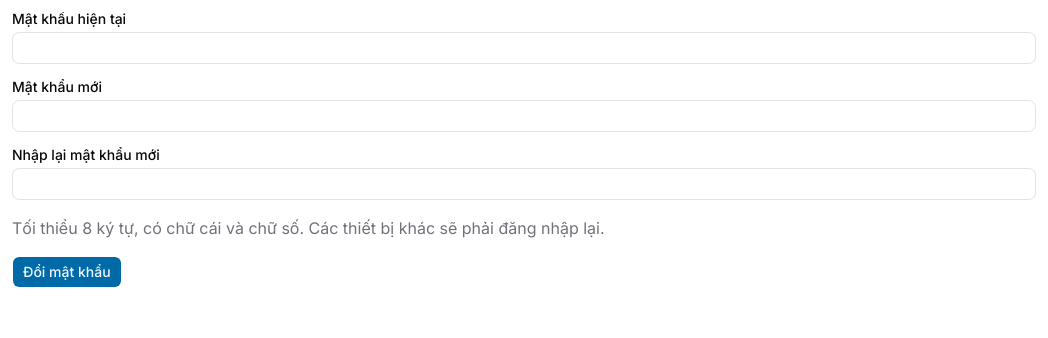
PasswordForm › mật khẩu mới quá ngắn → báo lỗi
The width and height of the screenshot is (1048, 338).
Type "Matkhau123" into the password field labelled "Mật khẩu hiện tại".
click(524, 48); type("Matkhau123")  # box [12,32,1036,64]
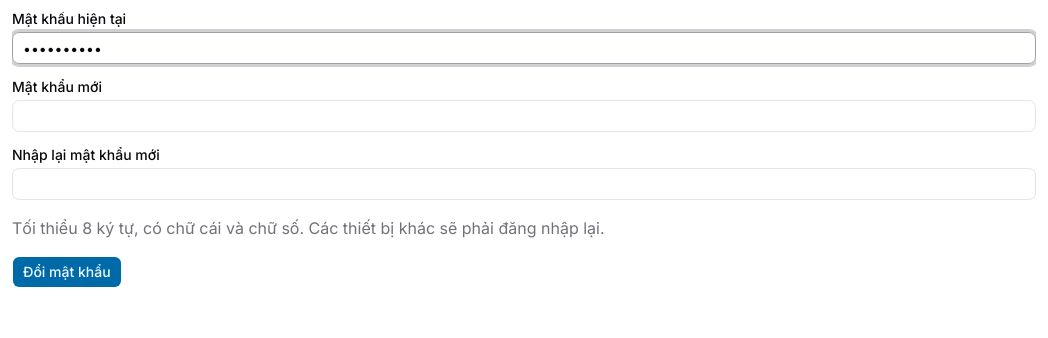
Type "abc1" into the password field labelled "Mật khẩu mới".
click(524, 116); type("abc1")  # box [12,100,1036,132]
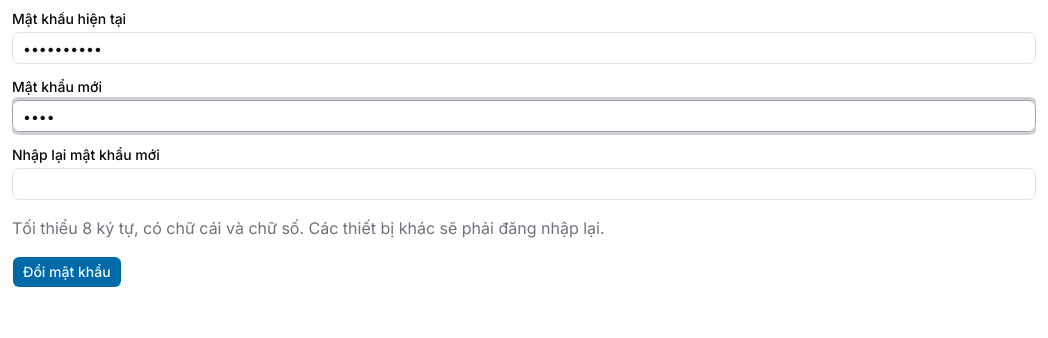
Type "abc1" into the password field labelled "Nhập lại mật khẩu mới".
click(524, 184); type("abc1")  # box [12,168,1036,200]
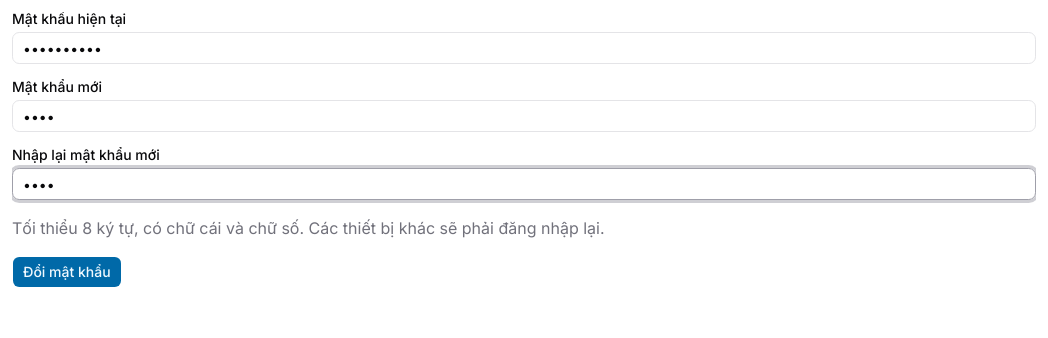
Click the button "Đổi mật khẩu".
click(67, 272)  # box [12,256,122,288]
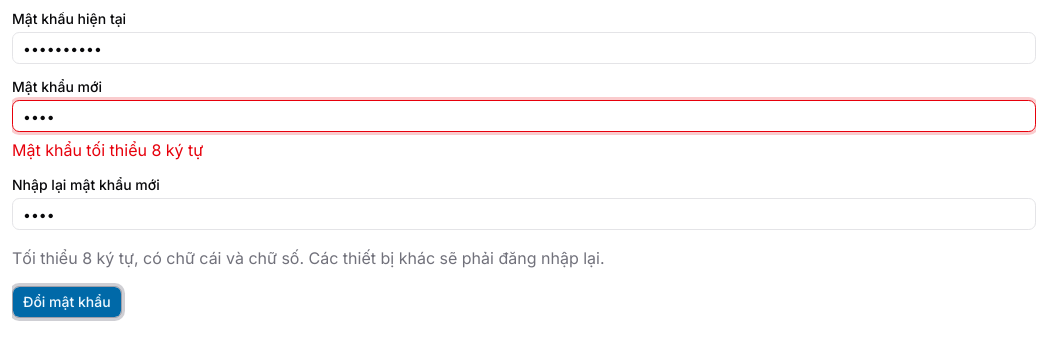
expect the text "Mật khẩu tối thiểu 8 ký tự" is shown: met, box [12,140,203,160]
